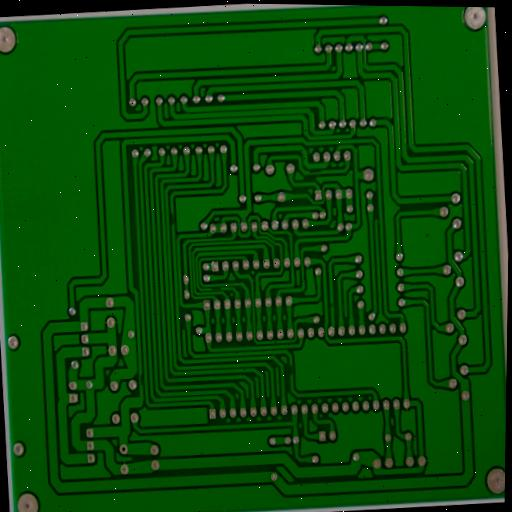mouse_bite: (137, 372, 146, 389), (287, 362, 295, 378), (169, 210, 176, 228), (307, 168, 325, 175), (210, 285, 223, 293)
